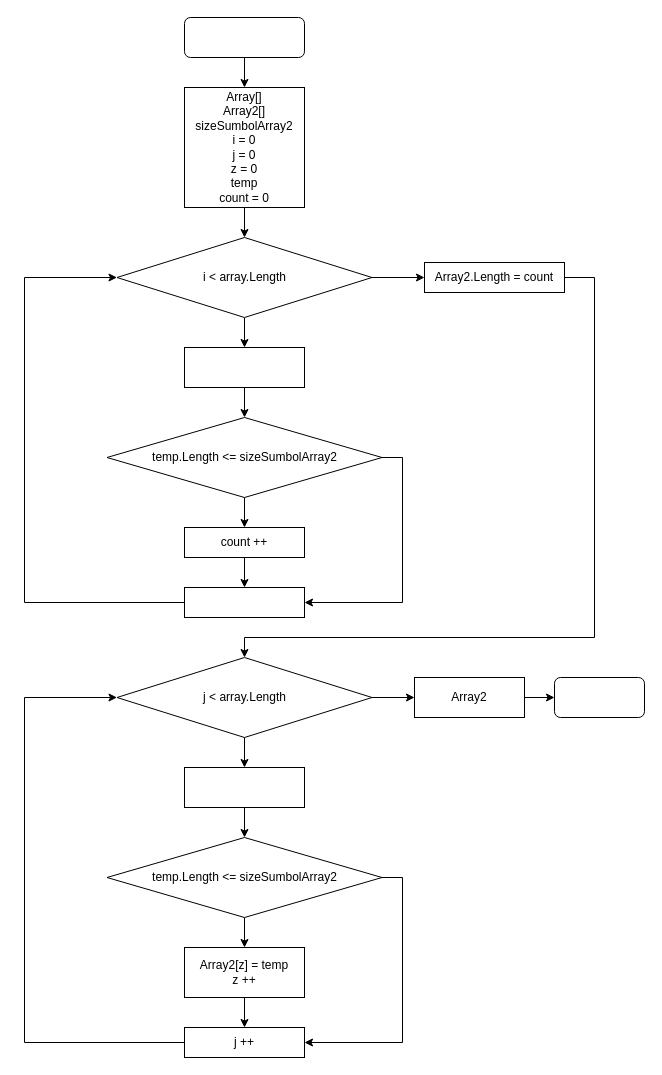
The diagram is 662 pixels wide and 1075 high, and some of its shapes have lost their labels. The centre of each missing label's shape, as x and y in pixels:
"End" belongs at point 599,697.
"i ++" belongs at point 244,602.
"Start" belongs at point 244,37.
"temp = Array[i]" belongs at point 244,367.
"temp = Array[j]" belongs at point 244,787.
